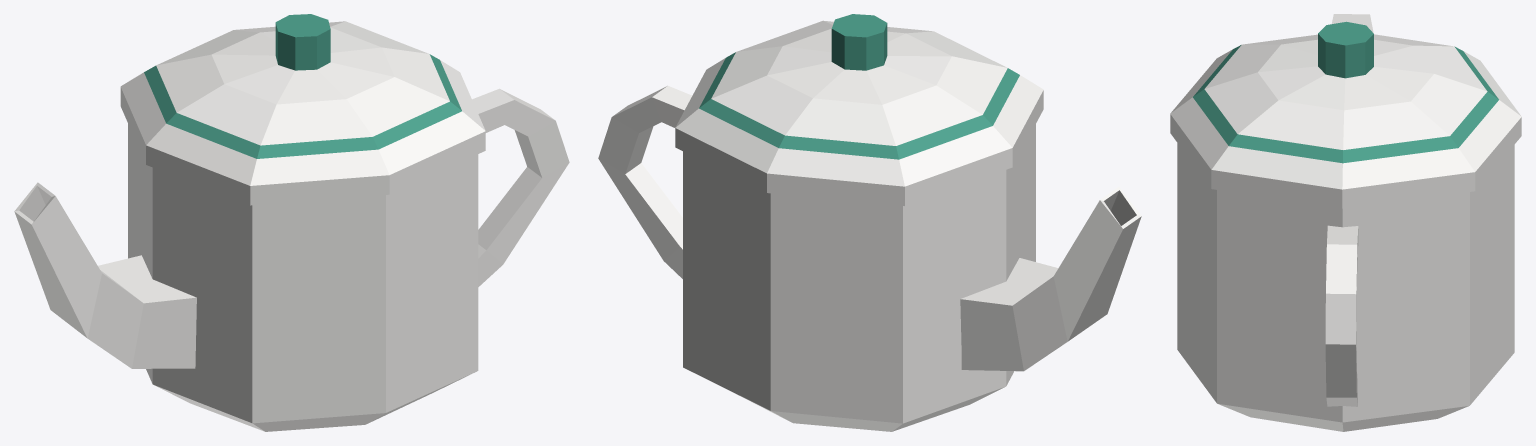
File: Teapot_2.fbx
3 renders of one model, left to right at view 1: azimuth 30°, elevation 25°; view 2: azimuth 150°, elevation 25°; view 3: azimuth 270°, elevation 25°, orthographic.
Parts seen in each view (by area): view 1: Teapot_2; view 2: Teapot_2; view 3: Teapot_2.
Part boxes in pixels (x1,y1,x2,y2): Teapot_2: (14, 14, 569, 431); Teapot_2: (598, 14, 1141, 431); Teapot_2: (1170, 14, 1521, 431).
Size of the model in its own units: 22.79 by 13.25 by 14.35.
